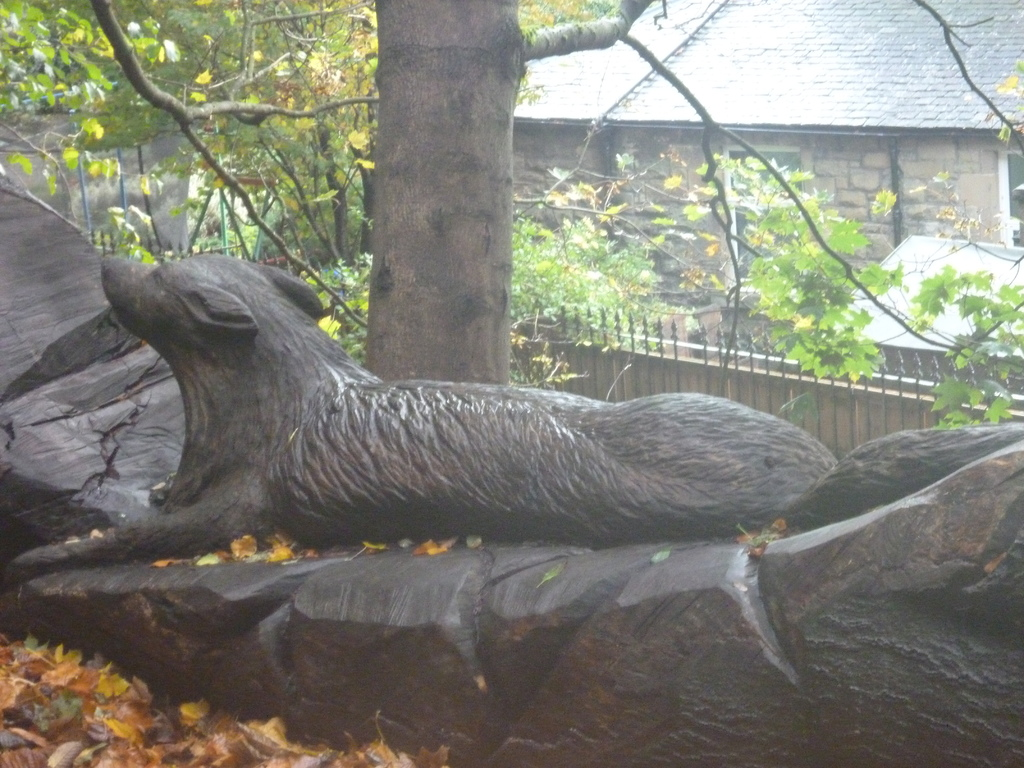Animal: (0, 254, 1020, 592)
